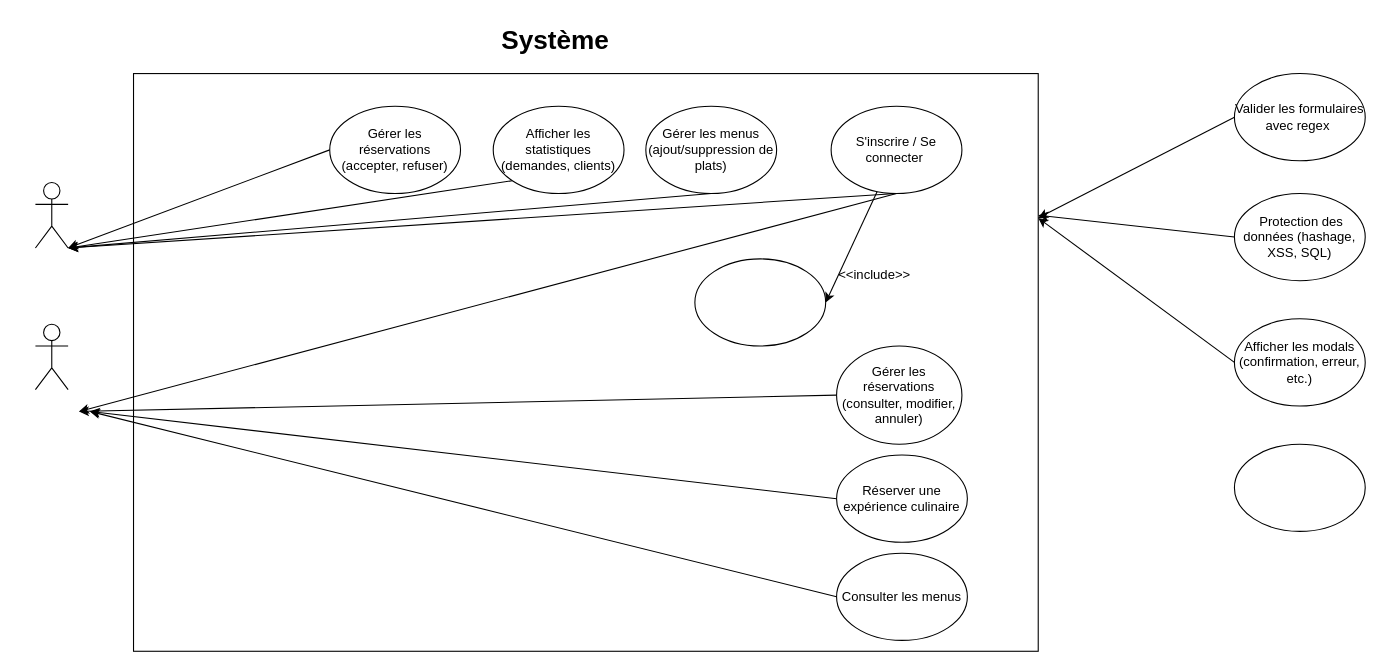
Some shapes in this 1384 by 670 pixel diagram are drawn without their labels. Here are the shapes that lost their labels. From the top down, the centre of each, then its label:
the point at 51,214: Chaf
the point at 760,302: Valider les formulaires
the point at 51,356: Utilisateur
the point at 1299,487: Alertes SweetAlert
